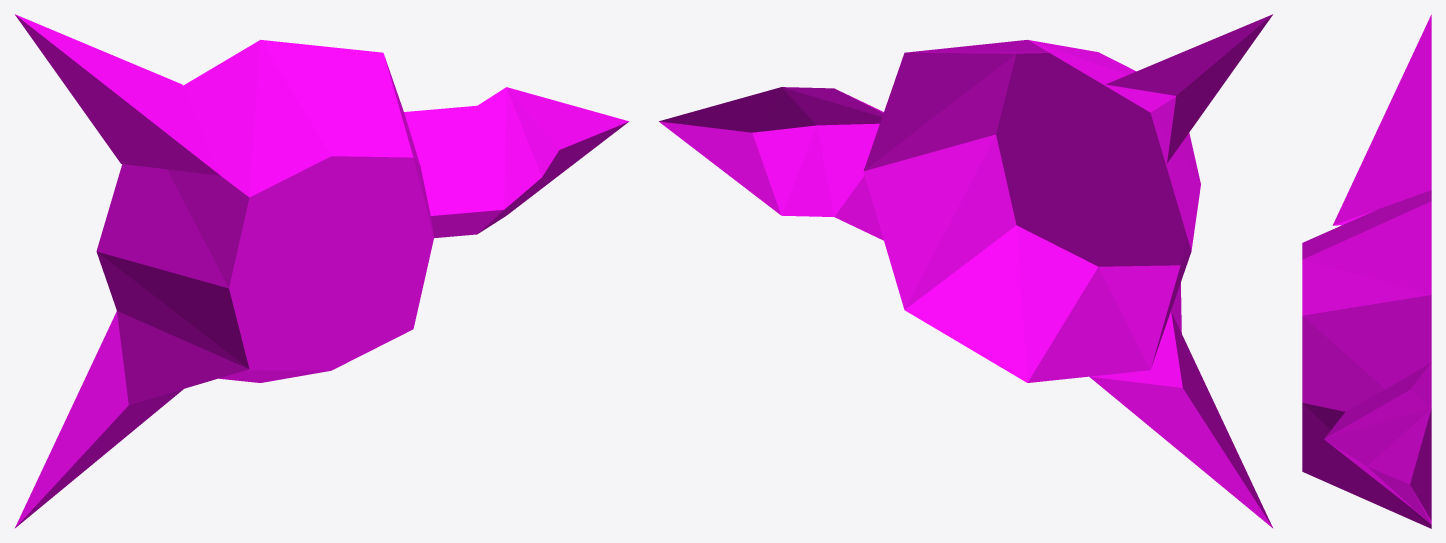
The model's file is treestump.obj.
The picture shows the model from 3 angles, left to right: view 1: azimuth 30°, elevation 25°; view 2: azimuth 150°, elevation 25°; view 3: azimuth 270°, elevation 25°; orthographic projection. The views are drawn at different scales.
Visible parts, largest first — view 1: treestump; view 2: treestump; view 3: treestump.
Part boxes in pixels (bbox=[...]): treestump: bbox=[14, 14, 628, 528]; treestump: bbox=[659, 14, 1273, 528]; treestump: bbox=[1302, 14, 1431, 528].
Bounding box in the file's own units: 1.5 × 1.2 × 0.3.
